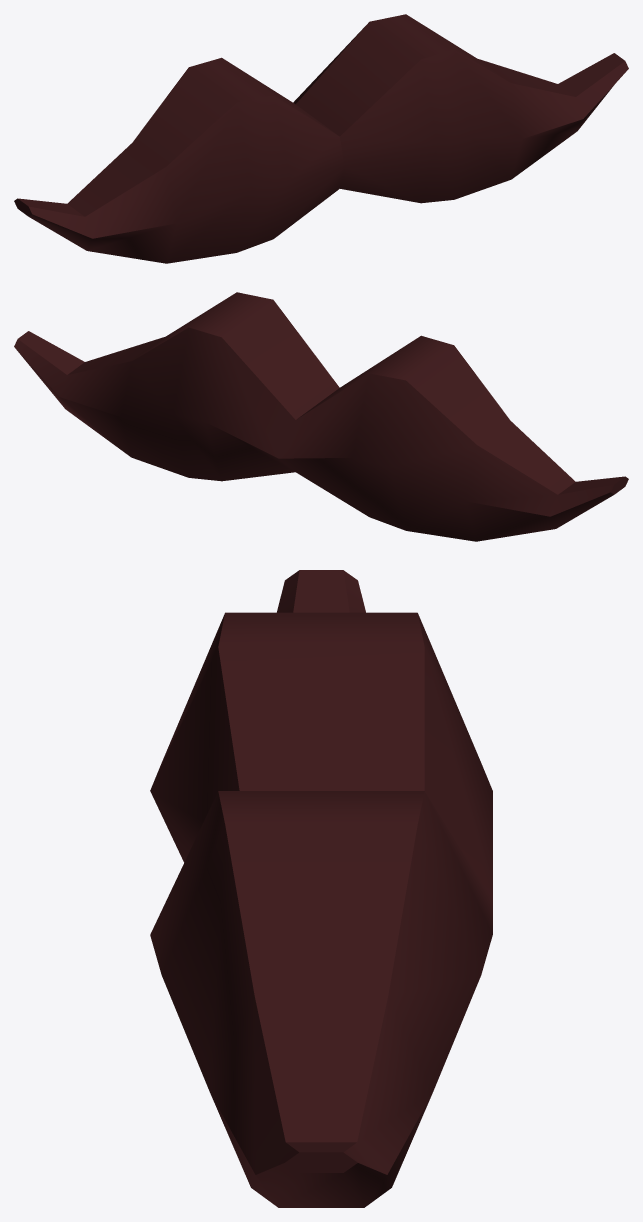
File: moustache.fbx
3 views of the same model, one above another, from view 1: azimuth 30°, elevation 25°; view 2: azimuth 150°, elevation 25°; view 3: azimuth 270°, elevation 25° (orthographic). The views are drawn at different scales.
Visible parts, largest first — view 1: moustache; view 2: moustache; view 3: moustache.
Boxes of the visible parts, <box> form: moustache: <box>14,14,628,263</box>; moustache: <box>14,292,628,541</box>; moustache: <box>150,570,492,1207</box>.
Bounding box in the file's own units: 51.99 × 12.53 × 12.93.
Materials: 1 (1 with a texture image).
